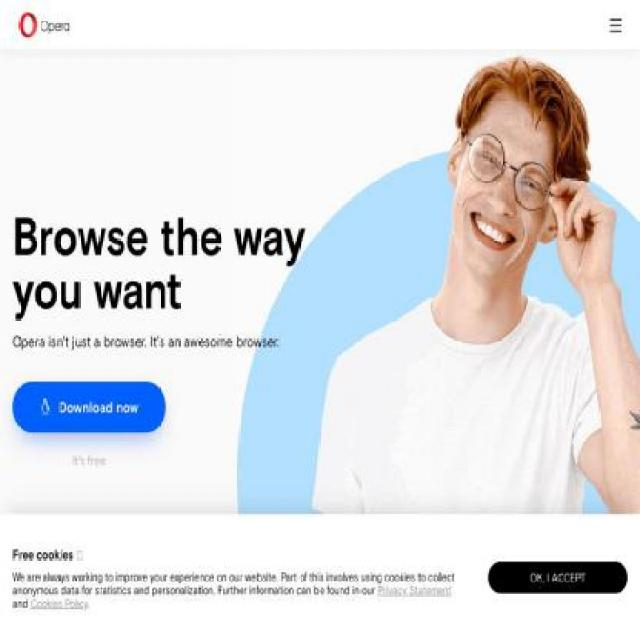button: (12, 381, 166, 433), (18, 12, 82, 37), (308, 590, 332, 624)
